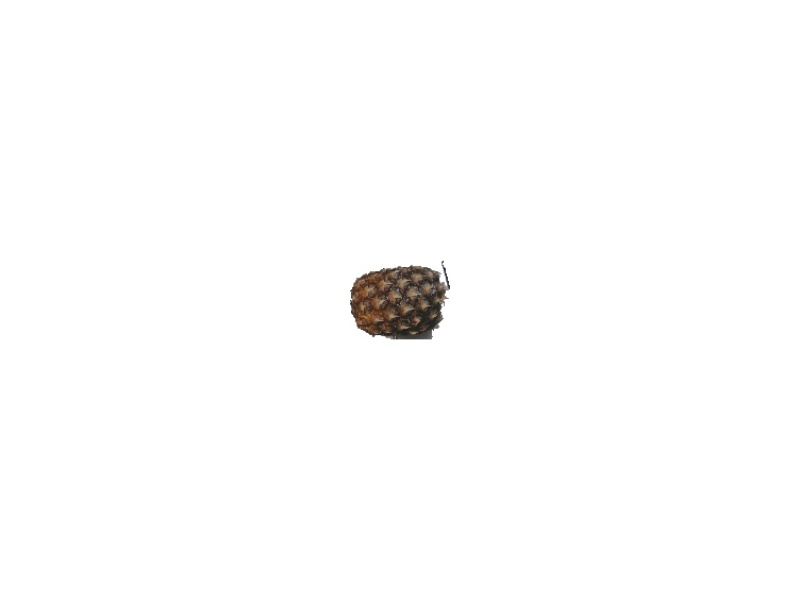abacaxi: (348, 260, 449, 345)
